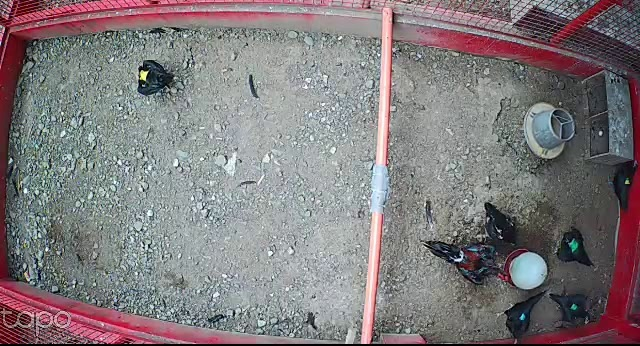Chicken: (491, 290, 548, 346), (477, 201, 519, 253), (552, 222, 594, 273), (543, 286, 591, 327), (605, 158, 639, 212), (134, 59, 177, 96)
Drinker: (503, 248, 548, 291)
Feeder: (523, 102, 576, 161)
Rooster: (420, 234, 510, 288)
Saddle_Color_Blue: (518, 312, 527, 322)
Saddle_Color_Yellow: (140, 67, 149, 81)
Saddle_Color_YellowGreen: (622, 177, 632, 185)
